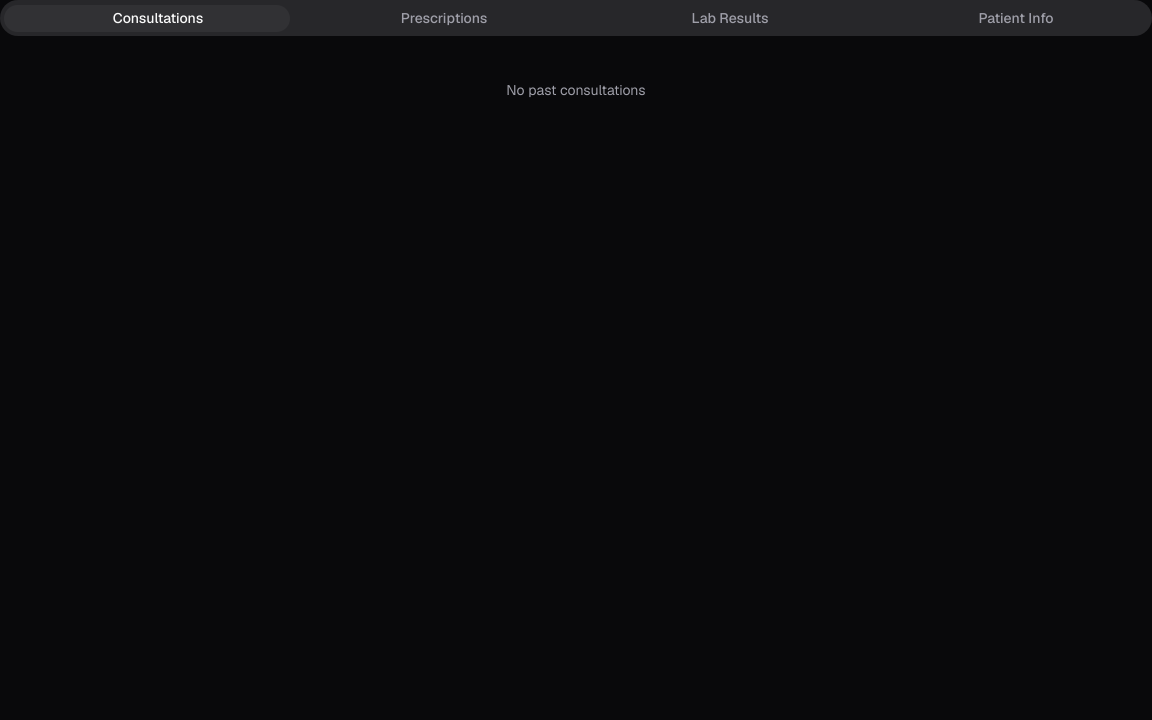
Test: PatientTimeline › shows allergies with amber highlight in Patient Info tab
The width and height of the screenshot is (1152, 720).
Note: Click Patient Info tab — use role tab
Click the tab "Patient Info" at (1005, 18), box [862,4,1148,32]
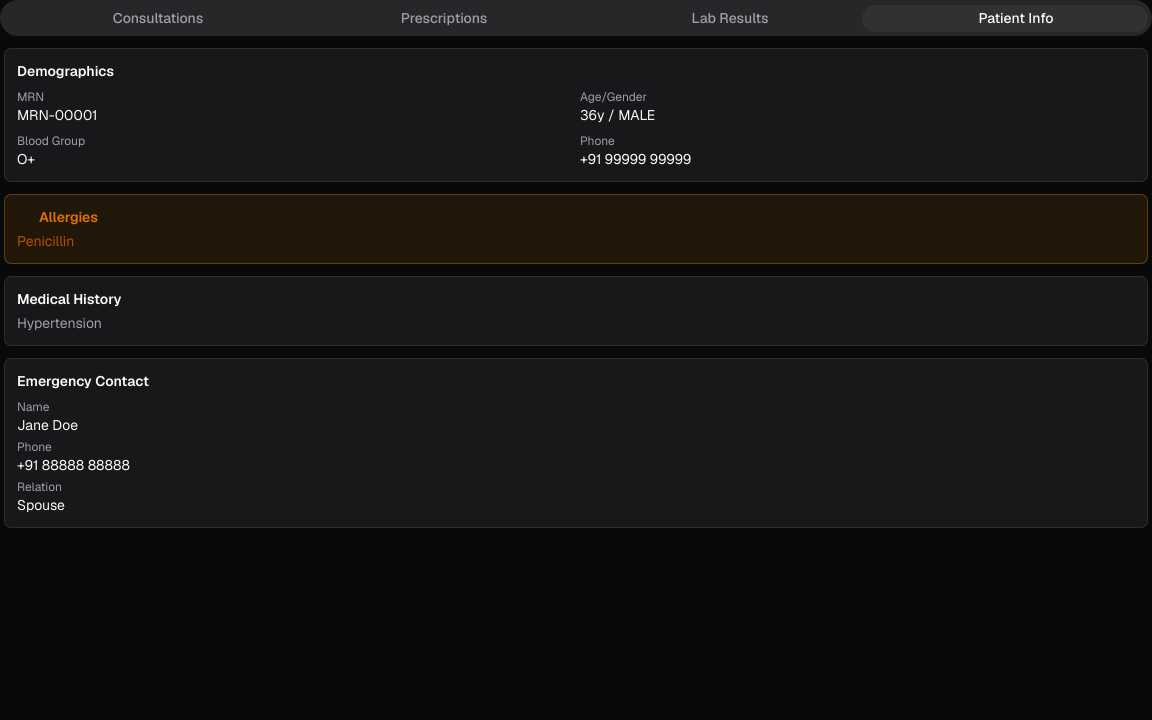
Check: the text "Penicillin" is shown, box [17,232,74,250]
